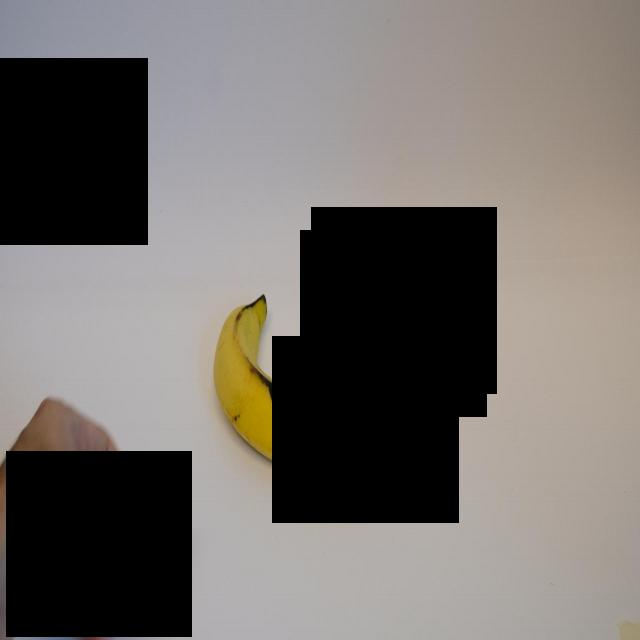banana: (206, 276, 378, 480)
